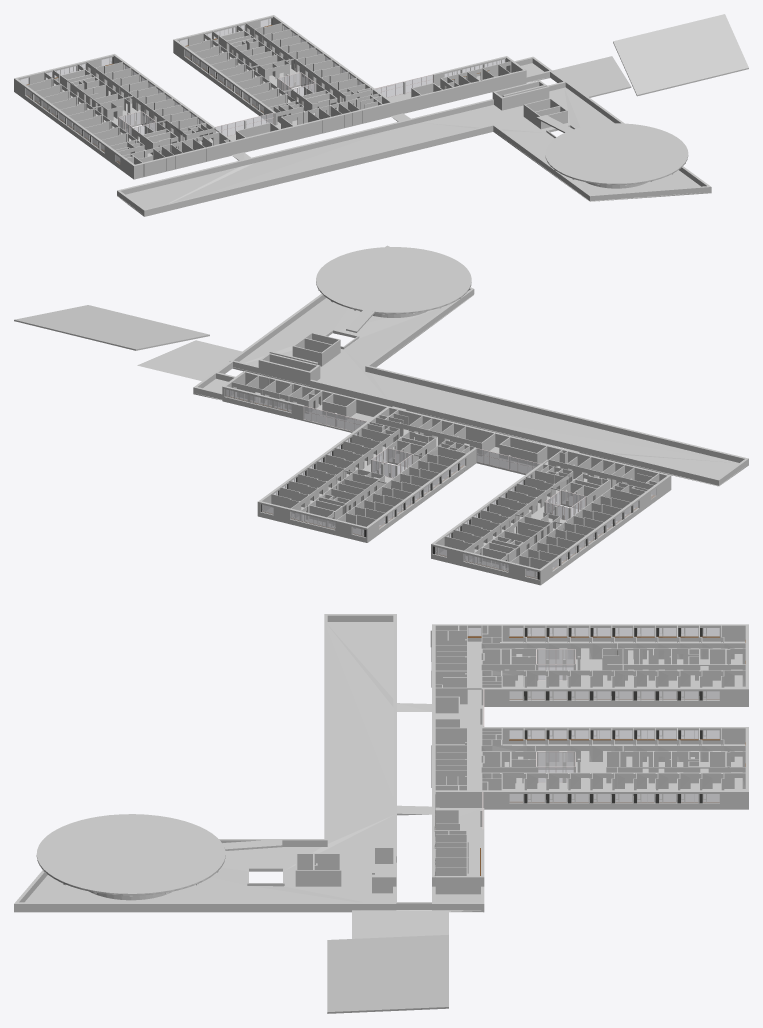
The model's file is Ebene 03_26.09.218.fbx.
3 views of the same model, one above another, from view 1: azimuth 30°, elevation 25°; view 2: azimuth 150°, elevation 25°; view 3: azimuth 270°, elevation 25° (orthographic). The views are drawn at different scales.
Parts seen in each view (by area): view 1: Farbe, weiß, Glas Normalglas, Fensterrahmen, Metall Aluminium, matt, Metall, Fassade Edelstahl; view 2: Farbe, weiß, Glas Normalglas, Fensterrahmen, Metall Aluminium, matt; view 3: Farbe, weiß, Glas Normalglas, Fensterrahmen, Metall Stahl, lackiert, Holz Nussbaum, Metall Aluminium, matt.
Boxes of the visible parts, left/top/right/bottom form: Farbe, weiß: left=14, top=14, right=748, bottom=216; Glas Normalglas: left=19, top=18, right=504, bottom=164; Fensterrahmen: left=20, top=19, right=505, bottom=164; Metall Aluminium, matt: left=118, top=72, right=433, bottom=136; Metall, Fassade Edelstahl: left=45, top=28, right=510, bottom=155; Farbe, weiß: left=14, top=245, right=748, bottom=585; Glas Normalglas: left=226, top=389, right=656, bottom=578; Fensterrahmen: left=224, top=389, right=656, bottom=579; Metall Aluminium, matt: left=303, top=406, right=585, bottom=520; Farbe, weiß: left=14, top=614, right=748, bottom=1013; Glas Normalglas: left=468, top=628, right=719, bottom=802; Fensterrahmen: left=467, top=628, right=719, bottom=803; Metall Stahl, lackiert: left=524, top=628, right=702, bottom=803; Holz Nussbaum: left=467, top=636, right=745, bottom=875; Metall Aluminium, matt: left=482, top=649, right=575, bottom=829.
Size of the model in its own units: 17743 by 13622 by 548.
Materials: 11 (3 with a texture image).
